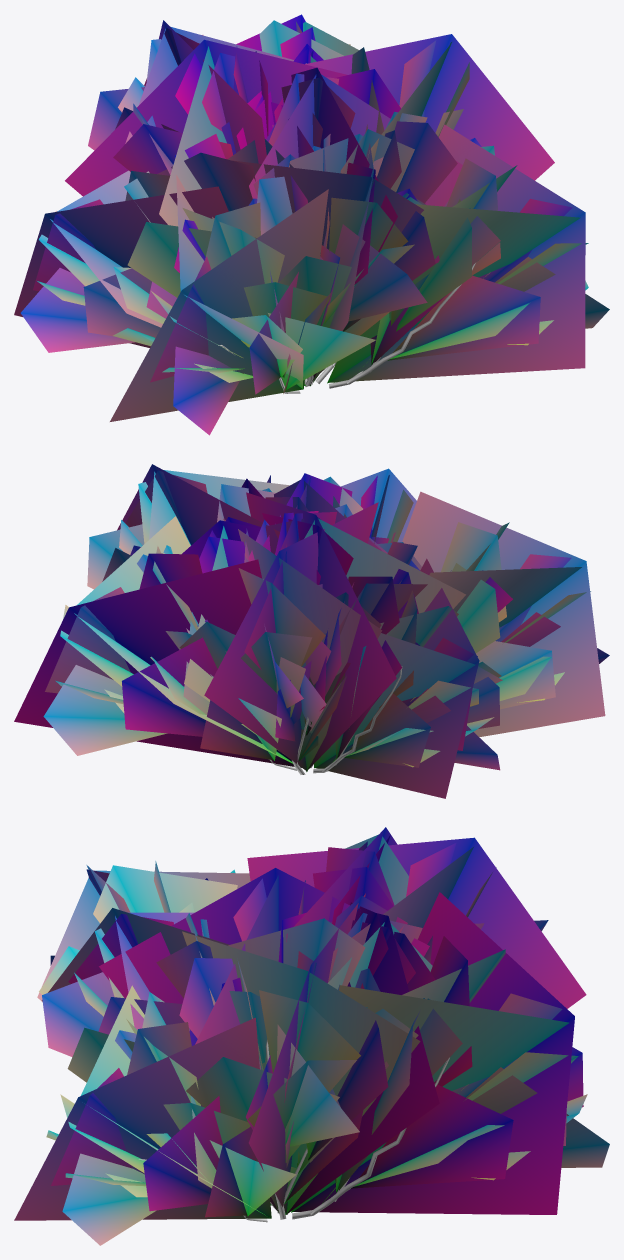
Rendered from buckbrush1.fbx.
The picture shows the model from 3 angles, top to bottom: view 1: azimuth 30°, elevation 25°; view 2: azimuth 150°, elevation 25°; view 3: azimuth 270°, elevation 25°; orthographic projection. The views are drawn at different scales.
Visible parts, largest first — view 1: bush__leaves_lod0, bush_shadow, bush__trunk_lod0; view 2: bush_shadow, bush__leaves_lod0, bush__trunk_lod0; view 3: bush__leaves_lod0, bush_shadow, bush__trunk_lod0.
Boxes of the visible parts, x1,y1,x2,y2 form: bush__leaves_lod0: [21, 20, 609, 435]; bush_shadow: [14, 14, 585, 421]; bush__trunk_lod0: [283, 263, 475, 393]; bush_shadow: [14, 464, 605, 798]; bush__leaves_lod0: [43, 470, 609, 770]; bush__trunk_lod0: [270, 666, 402, 774]; bush__leaves_lod0: [39, 835, 609, 1245]; bush_shadow: [14, 827, 586, 1220]; bush__trunk_lod0: [244, 1039, 449, 1222].
Size of what is drawn, in the model's own units: 7.1 by 4.49 by 6.77.
